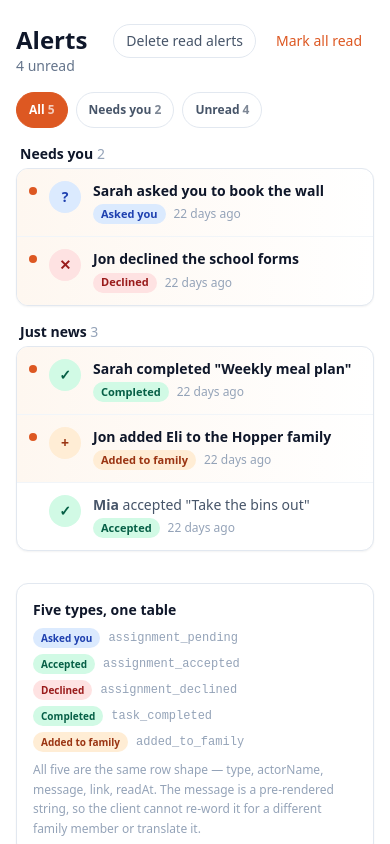
Scenario: alerts page — filter chips › drops already-read rows when the unread chip is tapped
Click the button "Unread 4". click: click(222, 110)
box: left=182, top=92, right=262, bottom=128
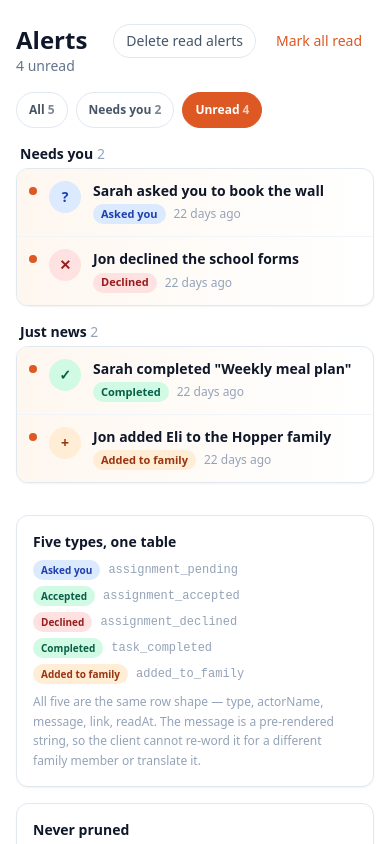
Expected: the text "Sarah completed \"Weekly meal plan\"" is shown, left=93, top=358, right=361, bottom=378
Expected: the link "accepted \"Take the bins out\"" is gone
